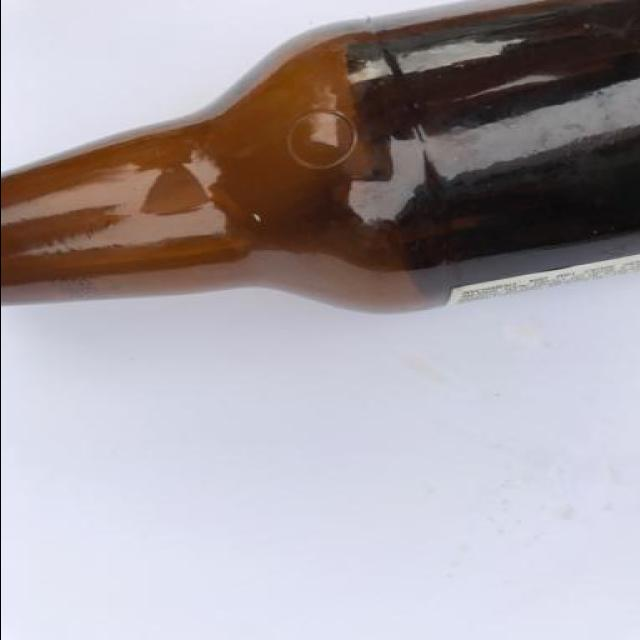glass: (0, 0, 640, 315)
